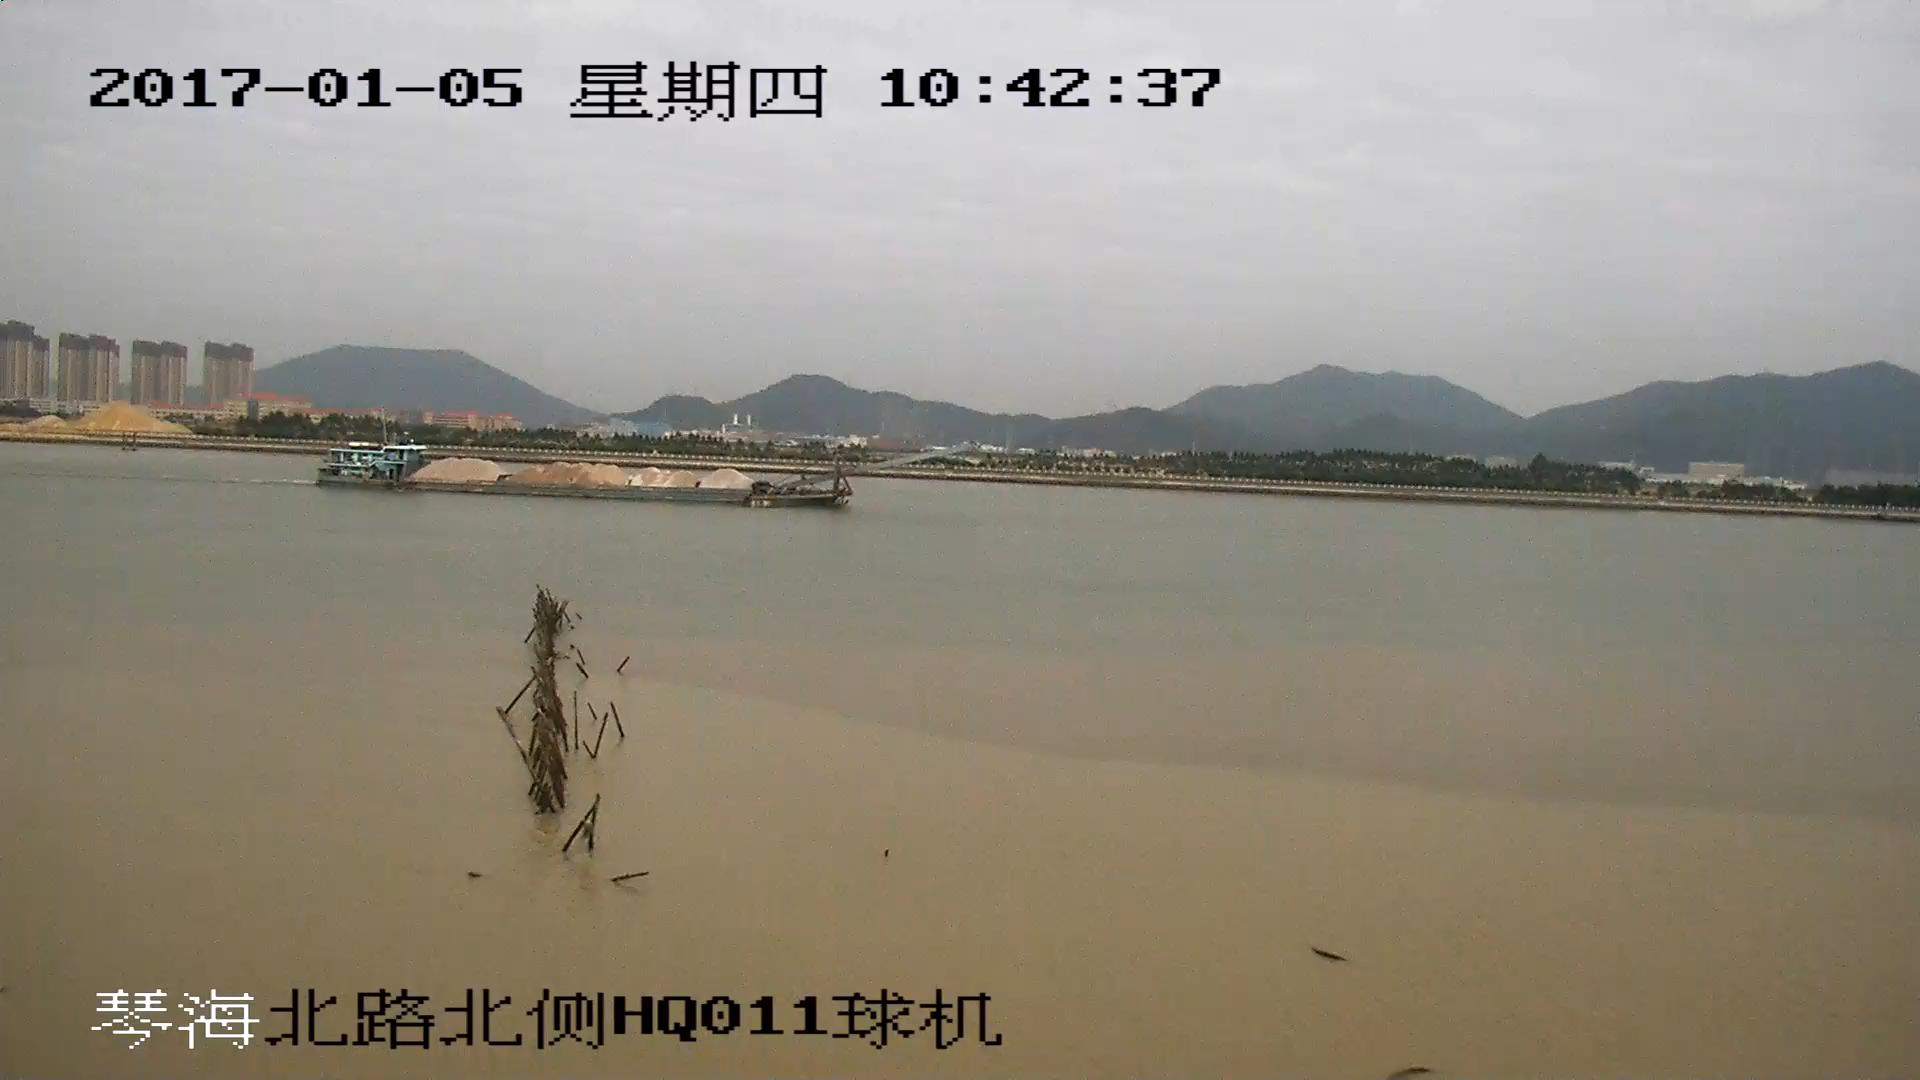ore carrier: (320, 442, 976, 508)
